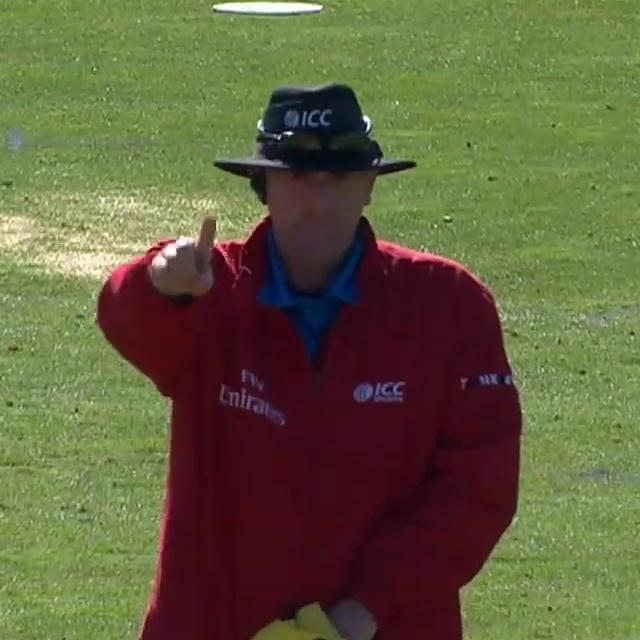umpire: (60, 44, 558, 640)
